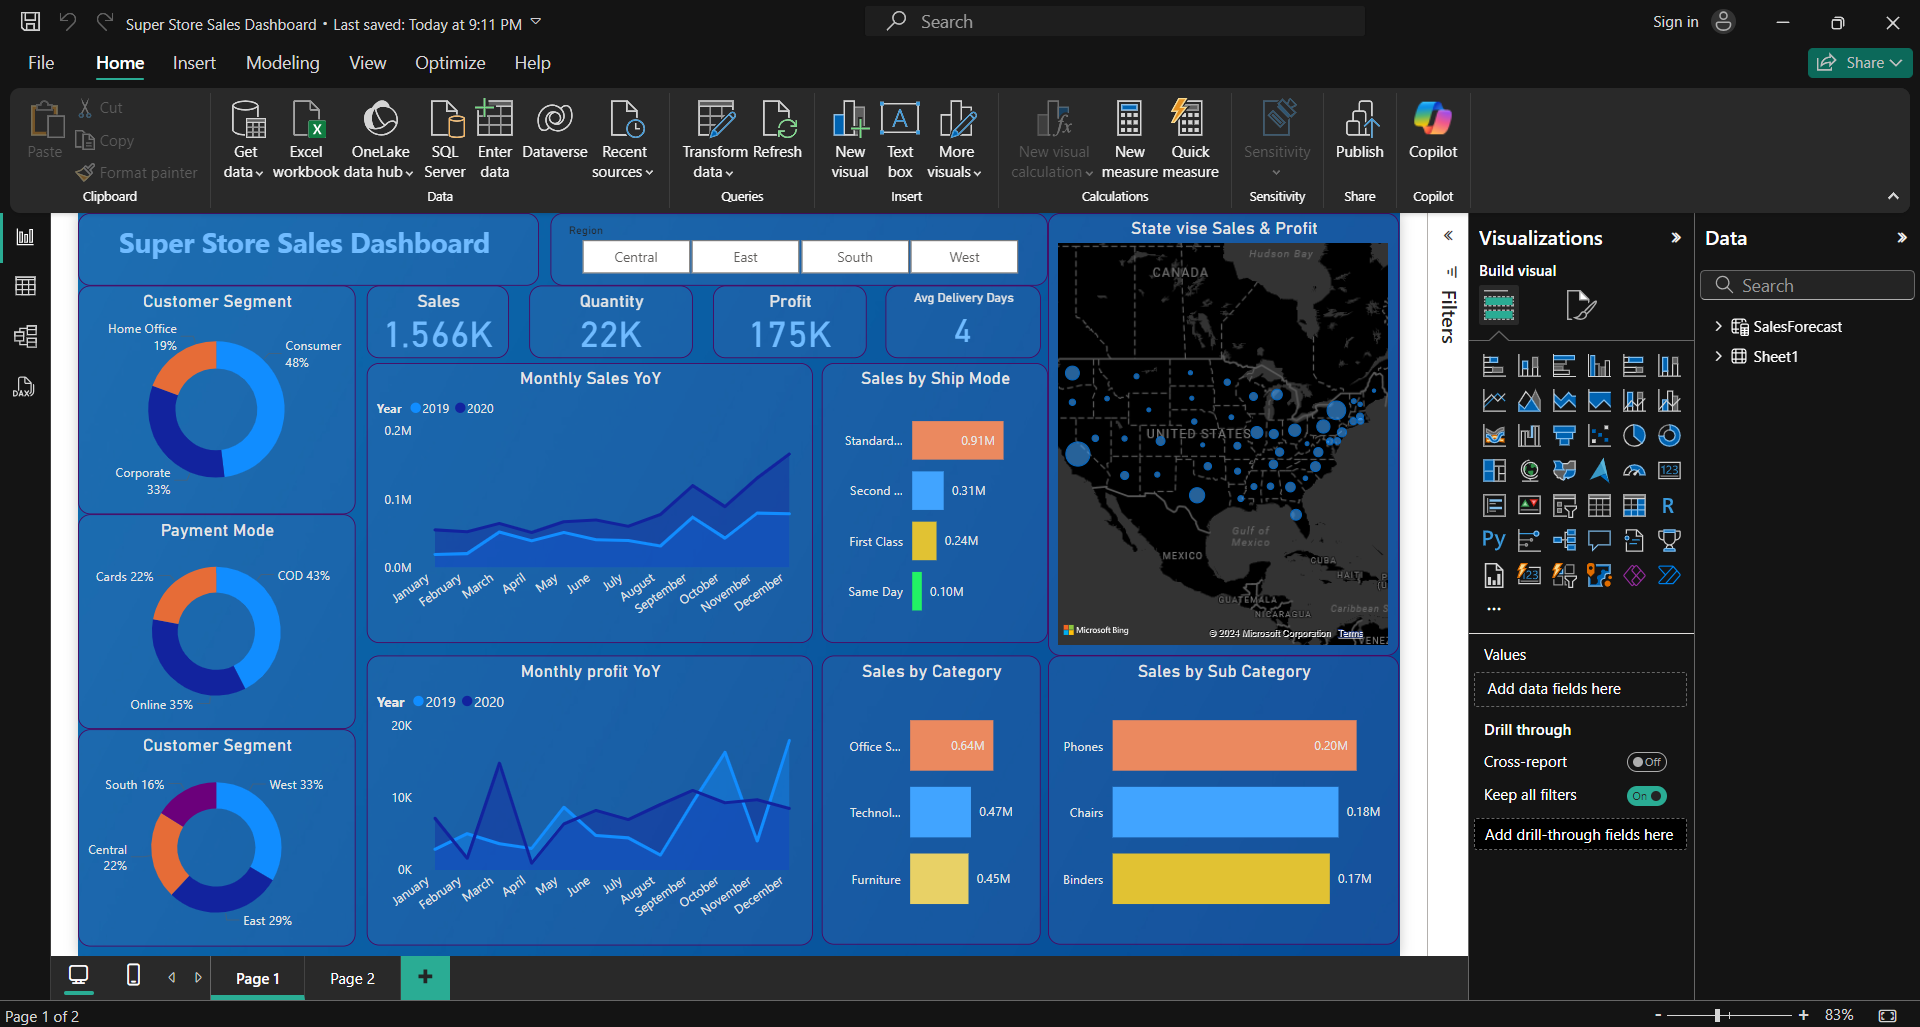

The page's visual inventory and layout, read from the dashboard file:
{"tool":"powerbi","page":{"name":"Page 1","canvas":[1280,720],"ordinal":0},"visuals":[{"type":"clusteredBarChart","title":"Sales by Category","fields":{"Category":["Sheet1.Category"],"Y":["Sum(Sheet1.Sales)"]},"box":[720.2,428.5,211.8,279.6],"z":0},{"type":"clusteredBarChart","title":"Sales by Sub Category","fields":{"Y":["Sum(Sheet1.Sales)"],"Category":["Sheet1.Sub-Category"]},"box":[939.3,428.5,340.1,279.6],"z":1000},{"type":"clusteredBarChart","title":"Sales by Ship Mode","fields":{"Y":["Sum(Sheet1.Sales)"],"Category":["Sheet1.Ship Mode"]},"box":[720.2,145.3,219.1,271.2],"z":2000},{"type":"areaChart","title":"Monthly Sales YoY","fields":{"Y":["Sum(Sheet1.Sales)"],"Category":["Sheet1.Order Date.Variation.Date Hierarchy.Month","Sheet1.Order Date.Variation.Date Hierarchy.Day"],"Series":["Sheet1.Order Date.Variation.Date Hierarchy.Year"]},"box":[279.6,145.3,432.1,271.2],"z":3000},{"type":"areaChart","title":"Monthly profit YoY","fields":{"Category":["Sheet1.Order Date.Variation.Date Hierarchy.Month","Sheet1.Order Date.Variation.Date Hierarchy.Day"],"Series":["Sheet1.Order Date.Variation.Date Hierarchy.Year"],"Y":["Sum(Sheet1.Profit)"]},"box":[279.6,428.5,432.1,280.8],"z":4000},{"type":"map","title":"State vise Sales & Profit","fields":{"Category":["Sheet1.State"],"Size":["Sum(Sheet1.Sales)"]},"box":[939.3,0,340.1,428.5],"z":5000},{"type":"donutChart","title":"Customer Segment","fields":{"Category":["Sheet1.Segment"],"Y":["Sum(Sheet1.Sales)"]},"box":[0,70.2,268.7,221.5],"z":6000},{"type":"donutChart","title":"Payment Mode","fields":{"Category":["Sheet1.Payment Mode"],"Y":["Sum(Sheet1.Sales)"]},"box":[0,291.7,268.7,208.2],"z":7000},{"type":"slicer","fields":{"Values":["Sheet1.Region"]},"box":[457.6,0,481.8,70.2],"z":8000},{"type":"textbox","box":[0,0,446.7,70.2],"z":9000},{"type":"card","title":"Sales","fields":{"Values":["Sum(Sheet1.Sales)"]},"box":[279.6,70.2,138,70.2],"z":10000},{"type":"card","title":"Avg Delivery Days","fields":{"Values":["Avg(Sheet1.AvgDelivery)"]},"box":[782,70.2,150.1,70.2],"z":11000},{"type":"card","title":"Profit","fields":{"Values":["Sum(Sheet1.Profit)"]},"box":[614.9,70.2,148.9,70.2],"z":12000},{"type":"card","title":"Quantity","fields":{"Values":["Sum(Sheet1.Quantity)"]},"box":[437,70.2,158.6,70.2],"z":13000},{"type":"donutChart","title":"Customer Segment","fields":{"Y":["Sum(Sheet1.Sales)"],"Category":["Sheet1.Region"]},"box":[0,499.9,268.7,210.6],"z":14000}]}

Visuals, with their boxes on the page's 1280x720 design canvas (x1, y1, x2, y2). These are canvas units, not pixel positions in the 1920x1027 screenshot, which may show the page scaled, cropped or inside an application window:
"Sales by Category" clusteredBarChart: region(720, 428, 932, 708)
"Sales by Sub Category" clusteredBarChart: region(939, 428, 1279, 708)
"Sales by Ship Mode" clusteredBarChart: region(720, 145, 939, 416)
"Monthly Sales YoY" areaChart: region(280, 145, 712, 416)
"Monthly profit YoY" areaChart: region(280, 428, 712, 709)
"State vise Sales & Profit" map: region(939, 0, 1279, 428)
"Customer Segment" donutChart: region(0, 70, 269, 292)
"Payment Mode" donutChart: region(0, 292, 269, 500)
slicer - Sheet1.Region: region(458, 0, 939, 70)
textbox: region(0, 0, 447, 70)
"Sales" card: region(280, 70, 418, 140)
"Avg Delivery Days" card: region(782, 70, 932, 140)
"Profit" card: region(615, 70, 764, 140)
"Quantity" card: region(437, 70, 596, 140)
"Customer Segment" donutChart: region(0, 500, 269, 710)
